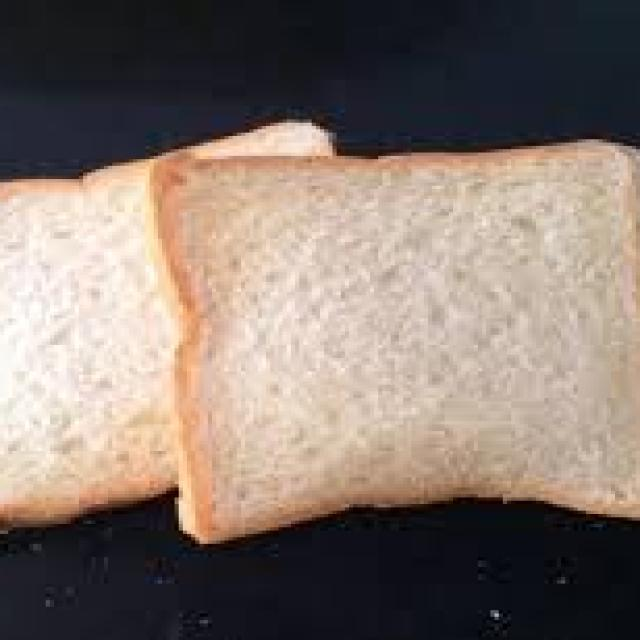inorganic: (12, 129, 636, 541)
